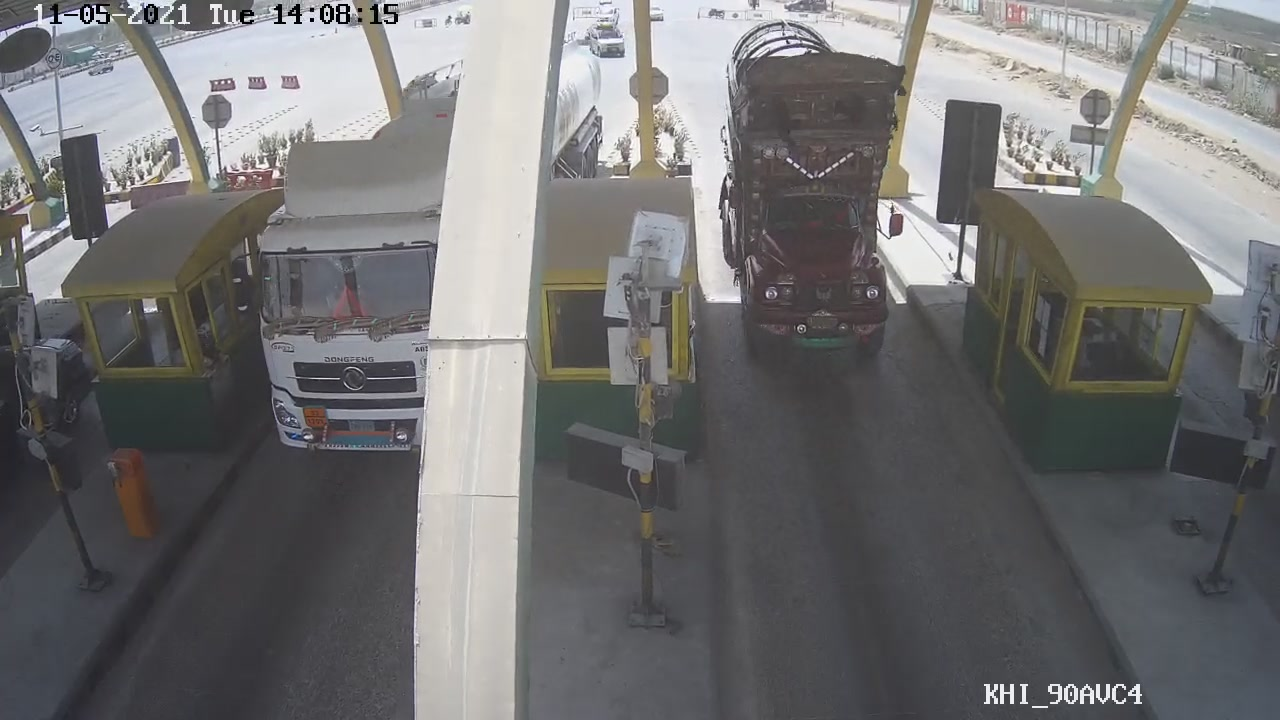F5: (714, 27, 904, 367)
